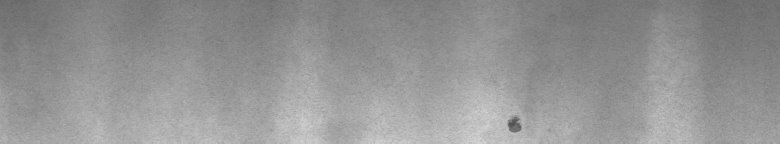fi: (503, 109, 528, 136)
